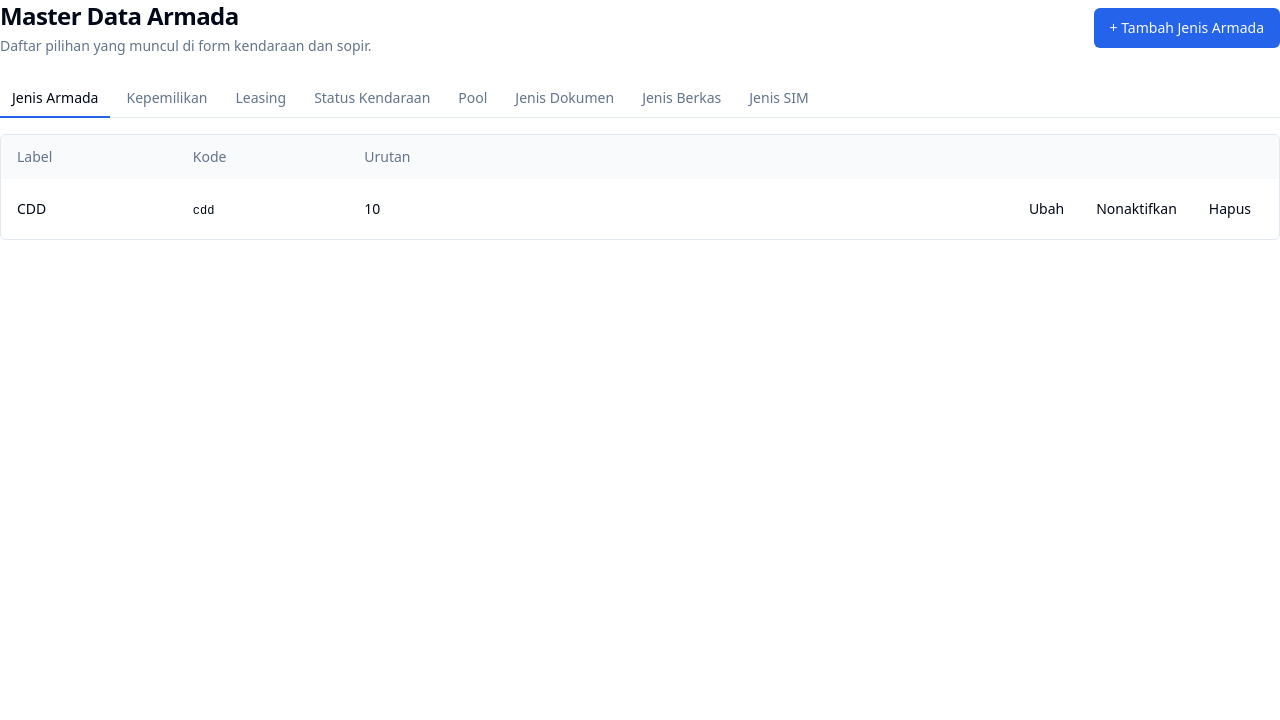
Test: FleetMasterDataPage › names the row and offers deactivation in the delete confirmation
Click the button "Hapus": [1230, 209] box [1197,191,1263,227]
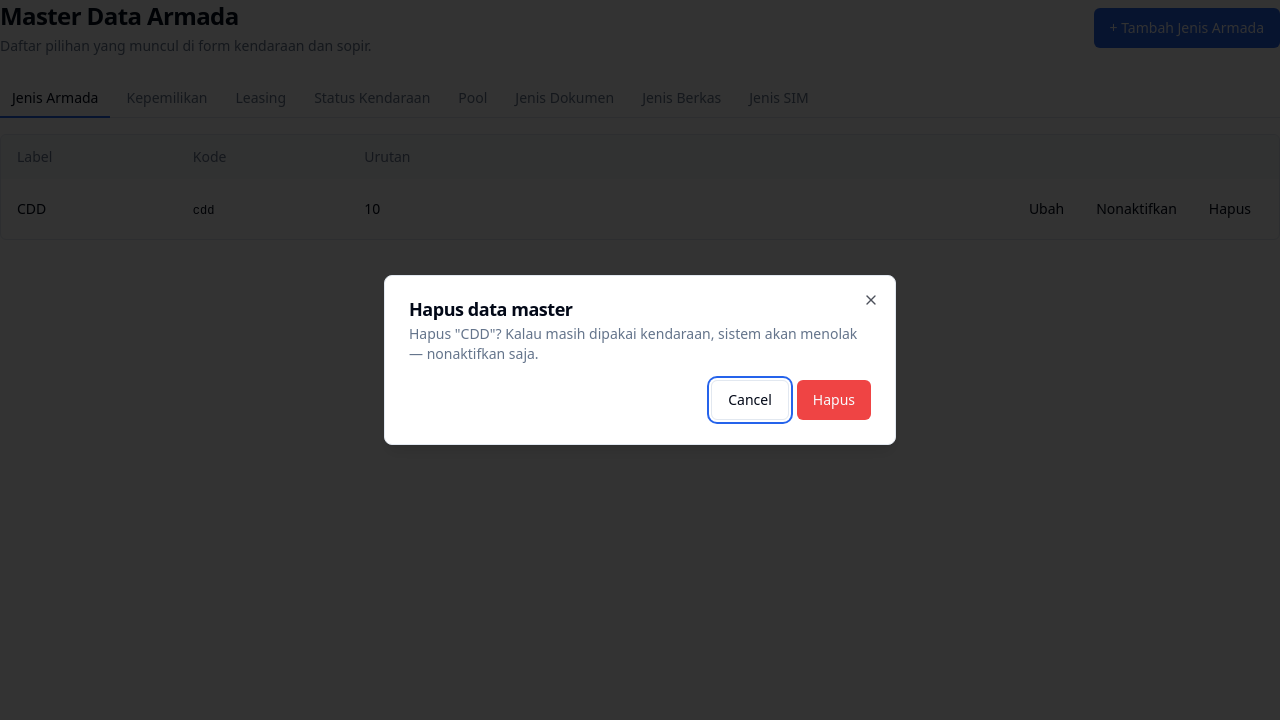
Result: the heading "Hapus data master" is shown at [409,297,573,321]
